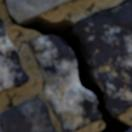brick: (0, 19, 28, 90), (0, 98, 55, 131), (6, 0, 70, 21)
broken_brick: (28, 36, 100, 131), (74, 0, 131, 115)
crack: (2, 0, 131, 131)
